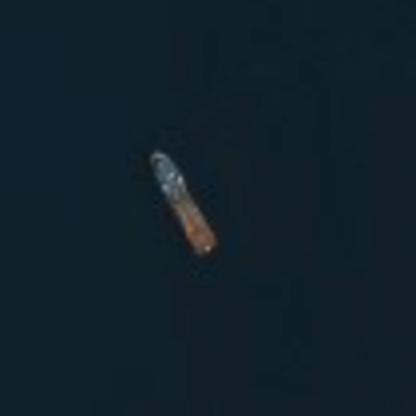ship: (142, 144, 220, 260)
